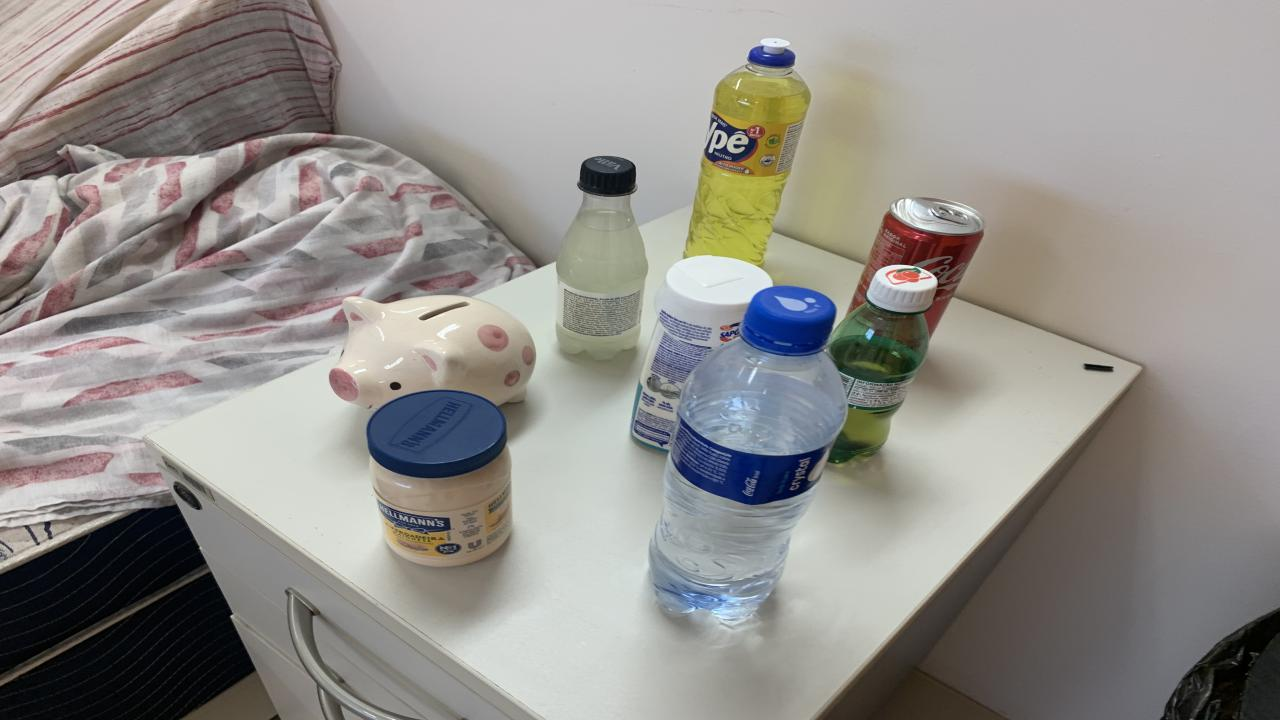Cleaner-Cleanup_Items: (630, 255, 772, 450)
Coke-Drinks: (850, 197, 985, 332)
Detergent-Cleanup_Items: (685, 38, 810, 264)
Guarana-Drinks: (828, 264, 938, 463)
Mayonnaise-Pantry_Items: (368, 390, 512, 566)
Pig_Safe-Miscellaneous: (330, 296, 538, 409)
Soda-Drinks: (555, 156, 648, 358), (738, 186, 742, 189)
Water_Bottle-Drinks: (650, 287, 848, 621)
